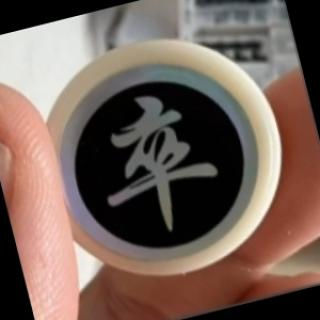qizi: (50, 36, 272, 270)
